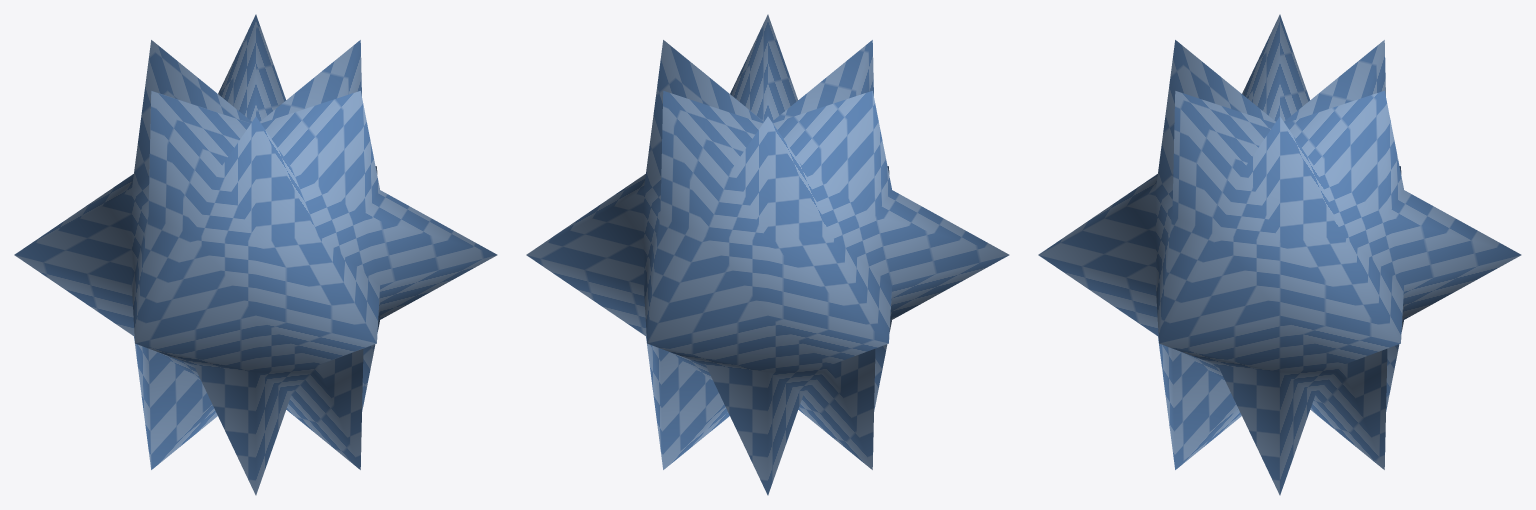
File: sphereMorph.FBX
3 views of the same model, side by side, from view 1: azimuth 30°, elevation 25°; view 2: azimuth 150°, elevation 25°; view 3: azimuth 270°, elevation 25° (orthographic).
Parts seen in each view (by area): view 1: Sphere001; view 2: Sphere001; view 3: Sphere001.
Boxes of the visible parts, x1,y1,x2,y2 form: Sphere001: (14, 14, 497, 495); Sphere001: (526, 14, 1009, 495); Sphere001: (1038, 14, 1521, 495).
Size of the model in its own units: 2.92 by 3.37 by 2.92.
